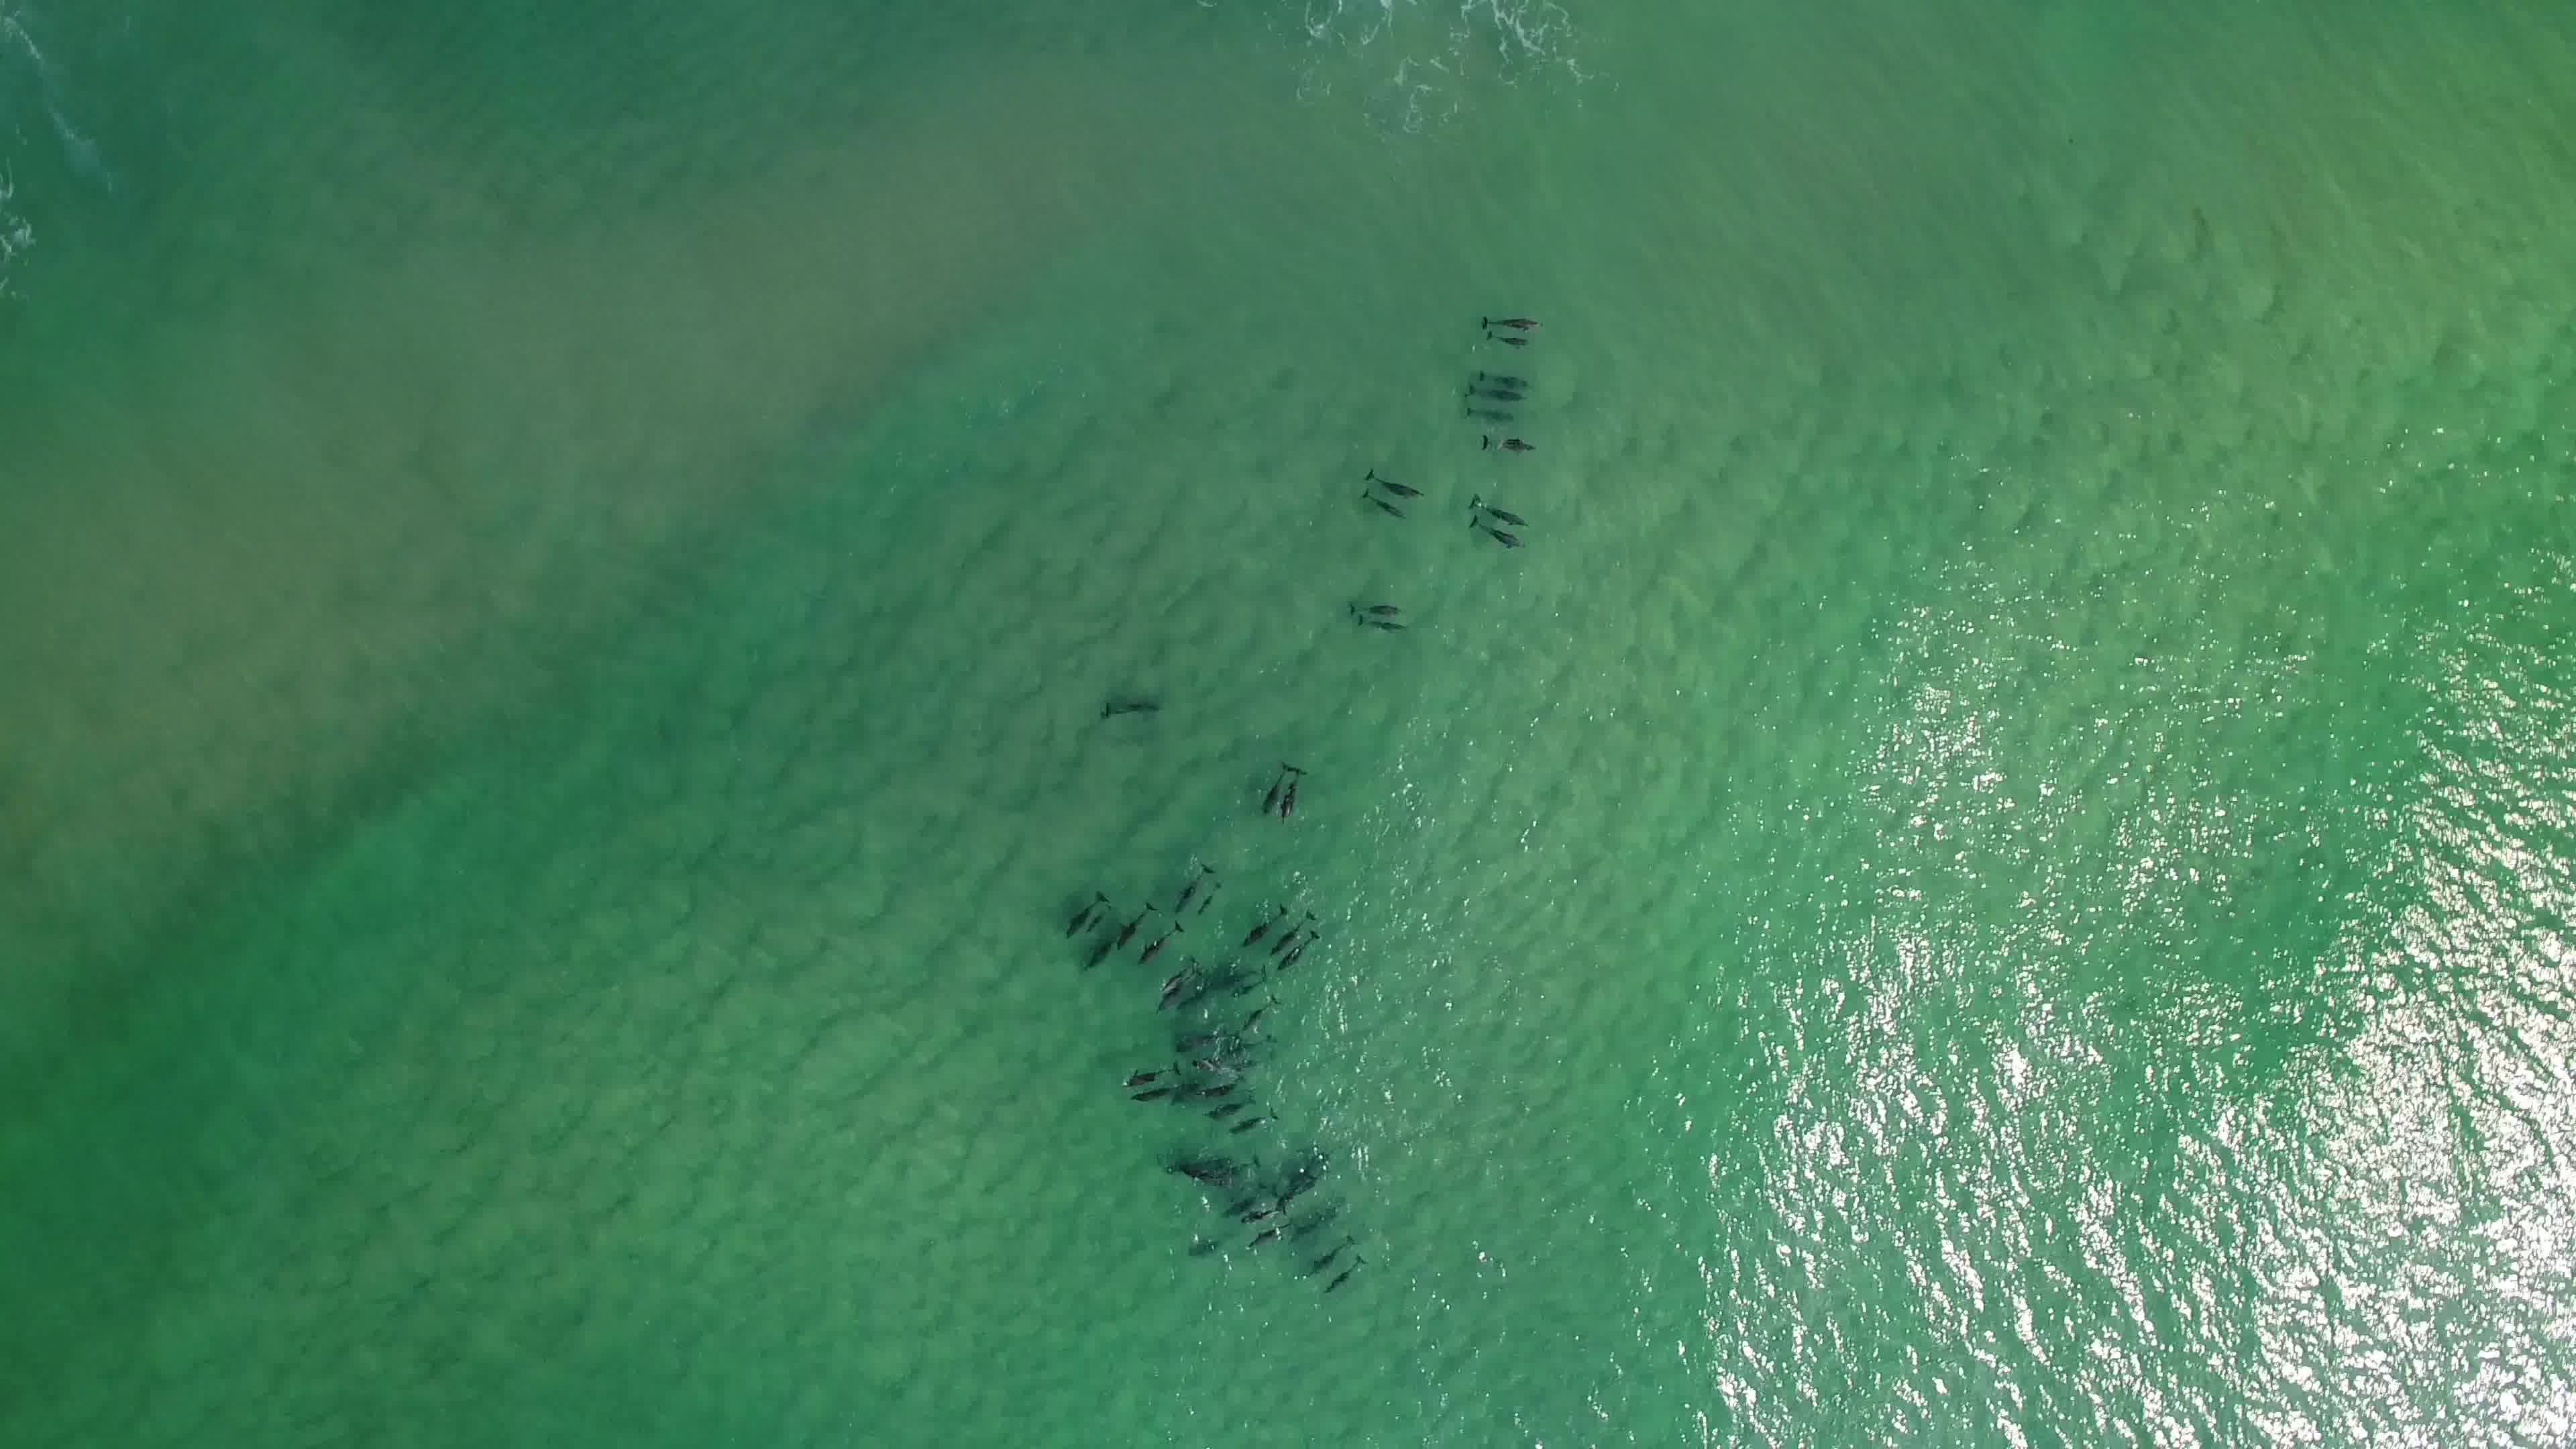dolphin: (1242, 892, 1299, 947), (1463, 511, 1530, 556), (1265, 906, 1318, 961), (1161, 950, 1214, 1005), (1171, 855, 1219, 913), (1115, 892, 1162, 950), (1175, 1159, 1265, 1189), (1138, 918, 1191, 968), (1058, 878, 1099, 939), (1315, 1254, 1371, 1299), (1465, 492, 1532, 529), (1283, 1155, 1329, 1208), (1364, 467, 1430, 504), (1355, 487, 1412, 527), (1306, 1231, 1362, 1272), (1276, 925, 1323, 971), (1483, 423, 1543, 458), (1238, 991, 1279, 1042), (1175, 1021, 1242, 1051), (1235, 955, 1274, 1003), (1088, 918, 1125, 968), (1479, 306, 1546, 333), (1207, 1090, 1261, 1122), (1265, 755, 1292, 821), (1196, 1069, 1256, 1097), (1097, 699, 1166, 722), (1460, 380, 1523, 405), (1458, 400, 1522, 425), (1359, 610, 1414, 639), (1476, 363, 1532, 389), (1233, 1106, 1290, 1132), (1242, 1217, 1292, 1247), (1343, 591, 1401, 616), (1284, 759, 1304, 830), (1122, 1065, 1184, 1086), (1481, 329, 1539, 350), (1242, 1203, 1279, 1226), (1219, 1194, 1260, 1214)
